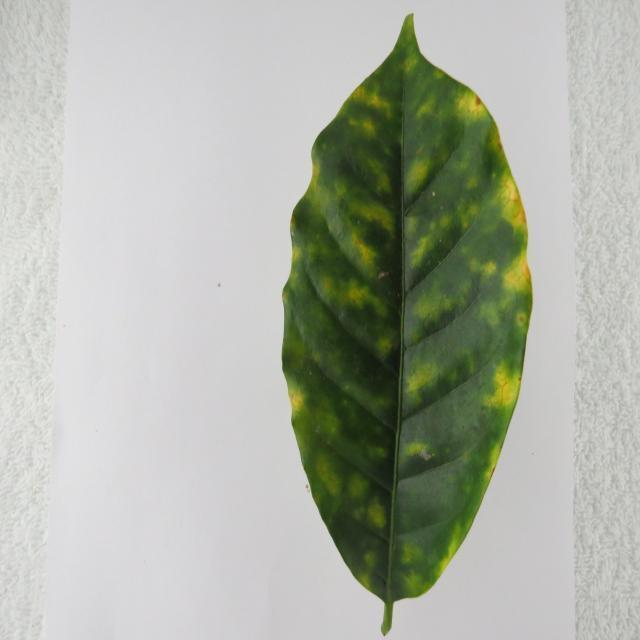DeficienciaNutricional-Manganeso: (282, 15, 532, 633)
